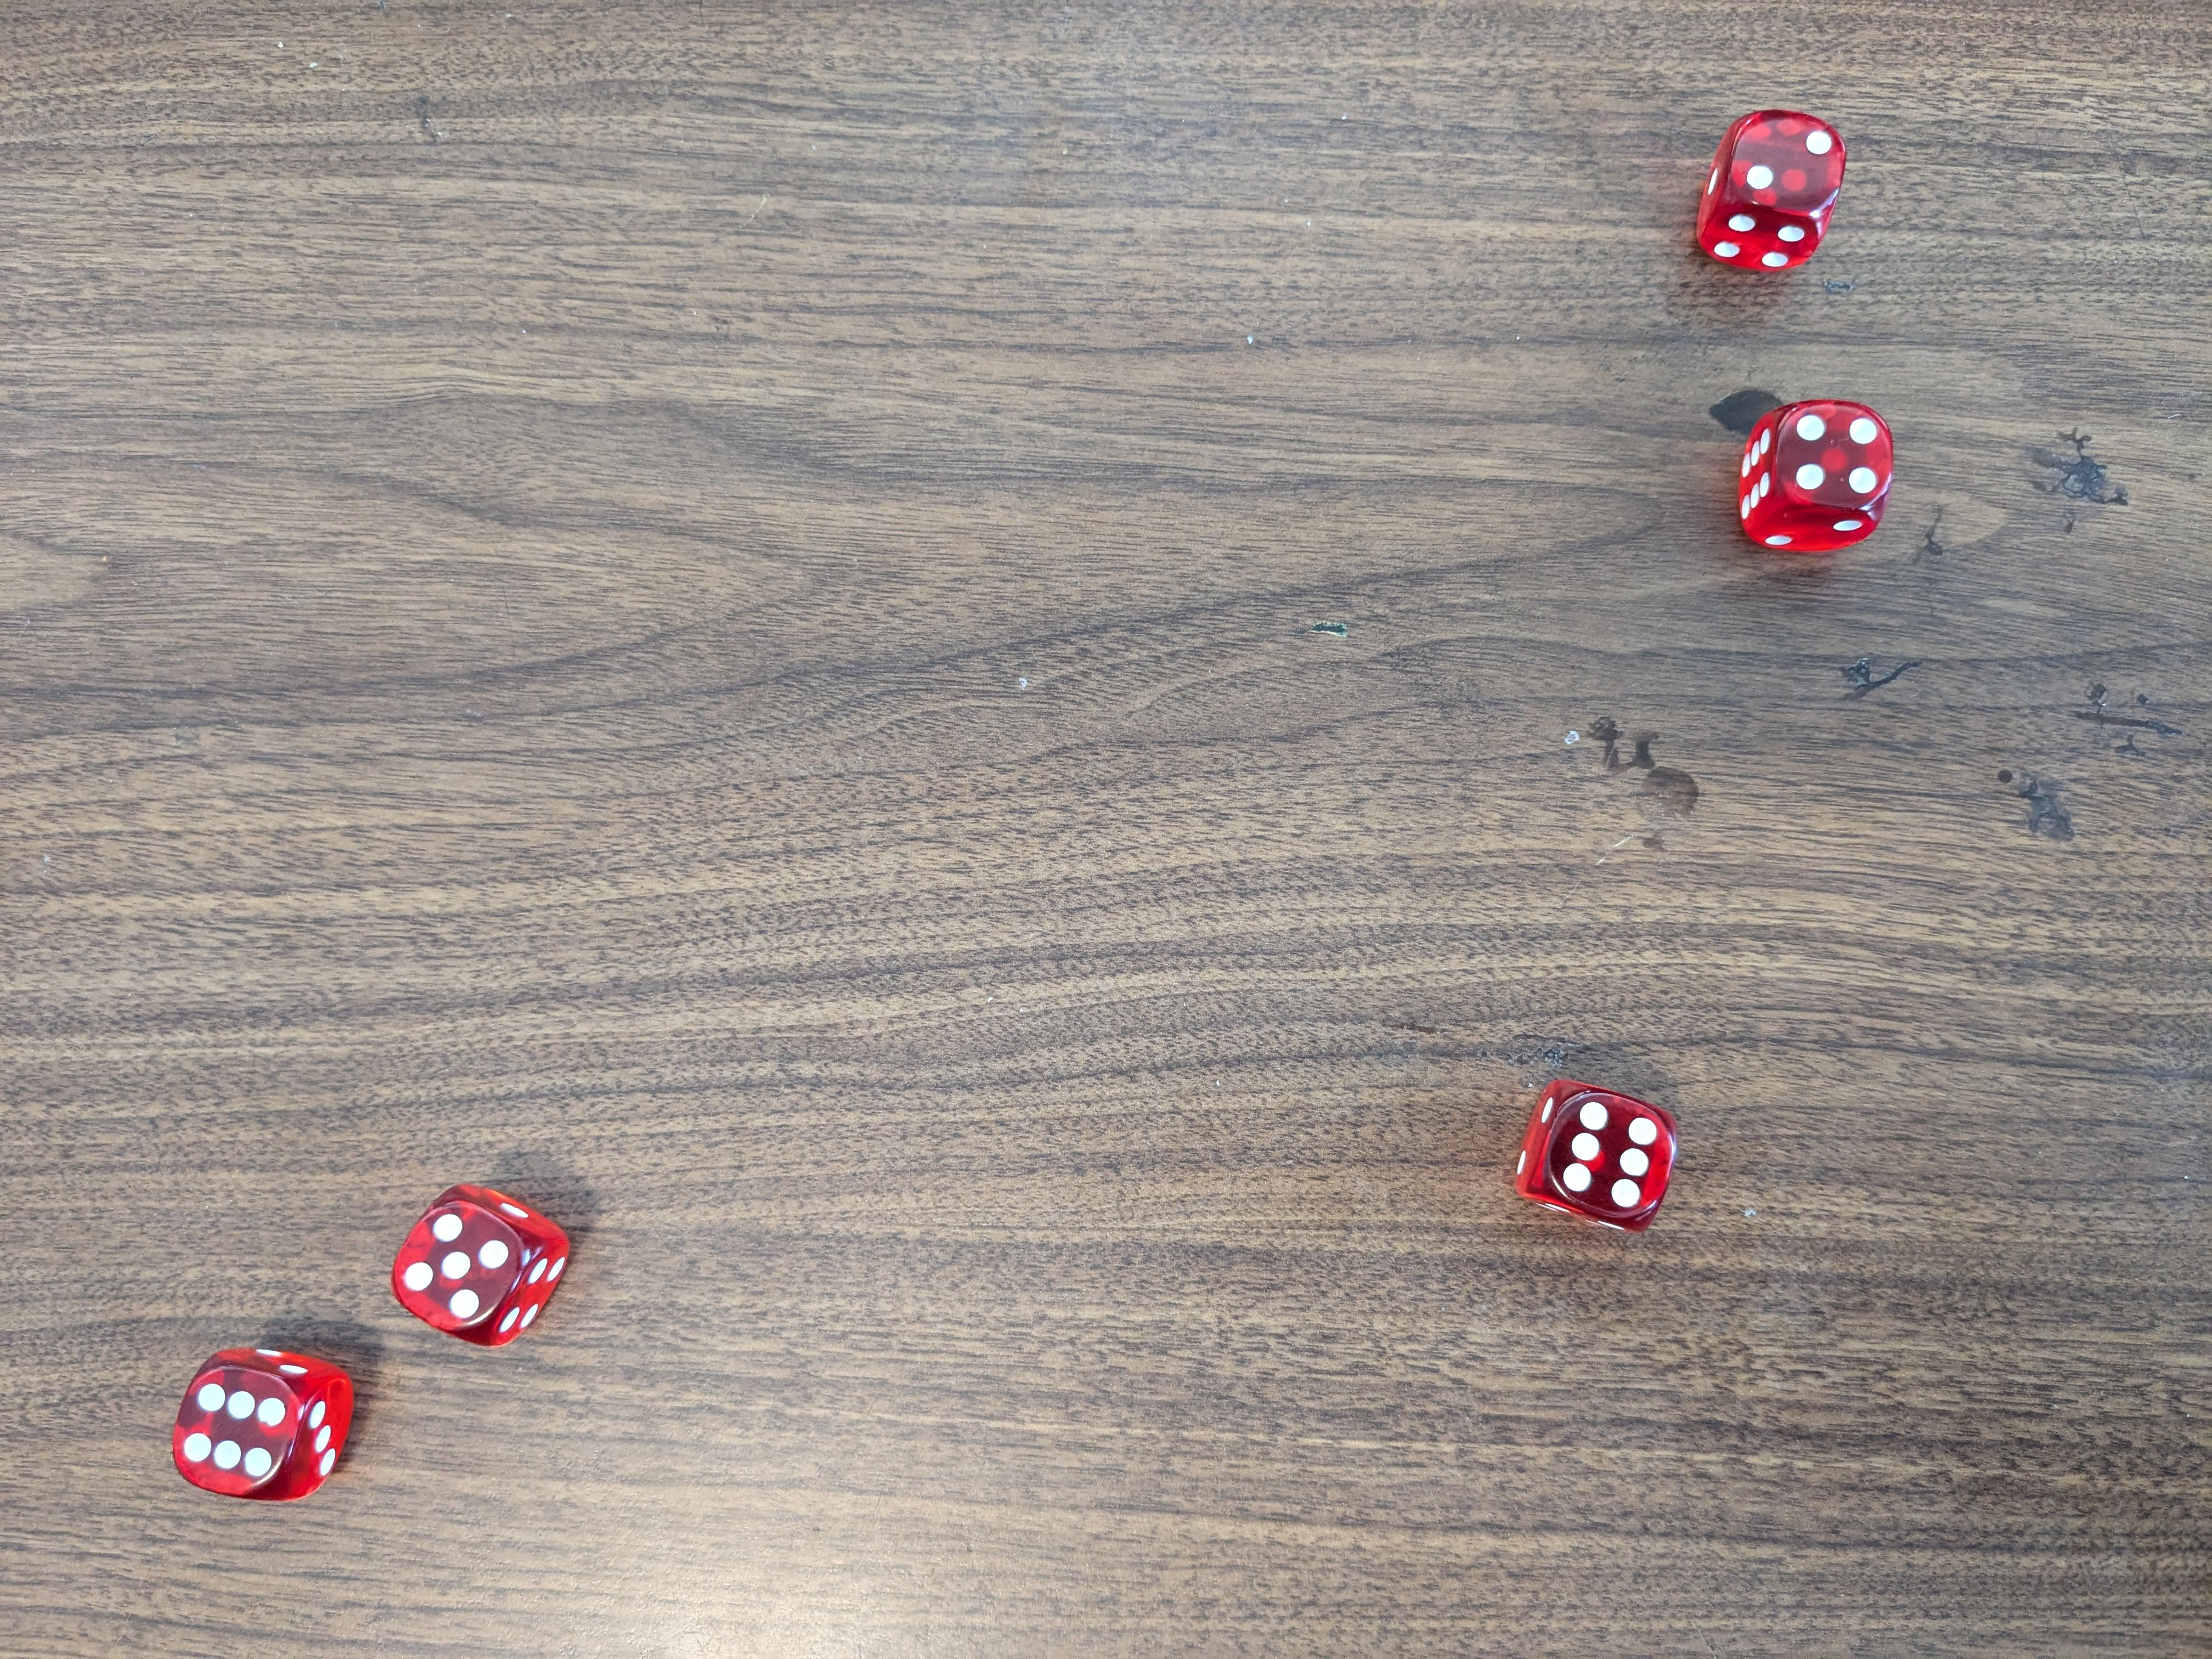five: (392, 1180, 568, 1349)
four: (1731, 399, 1892, 554)
six: (176, 1345, 355, 1502), (1510, 1079, 1681, 1236)
two: (1696, 110, 1851, 272)
